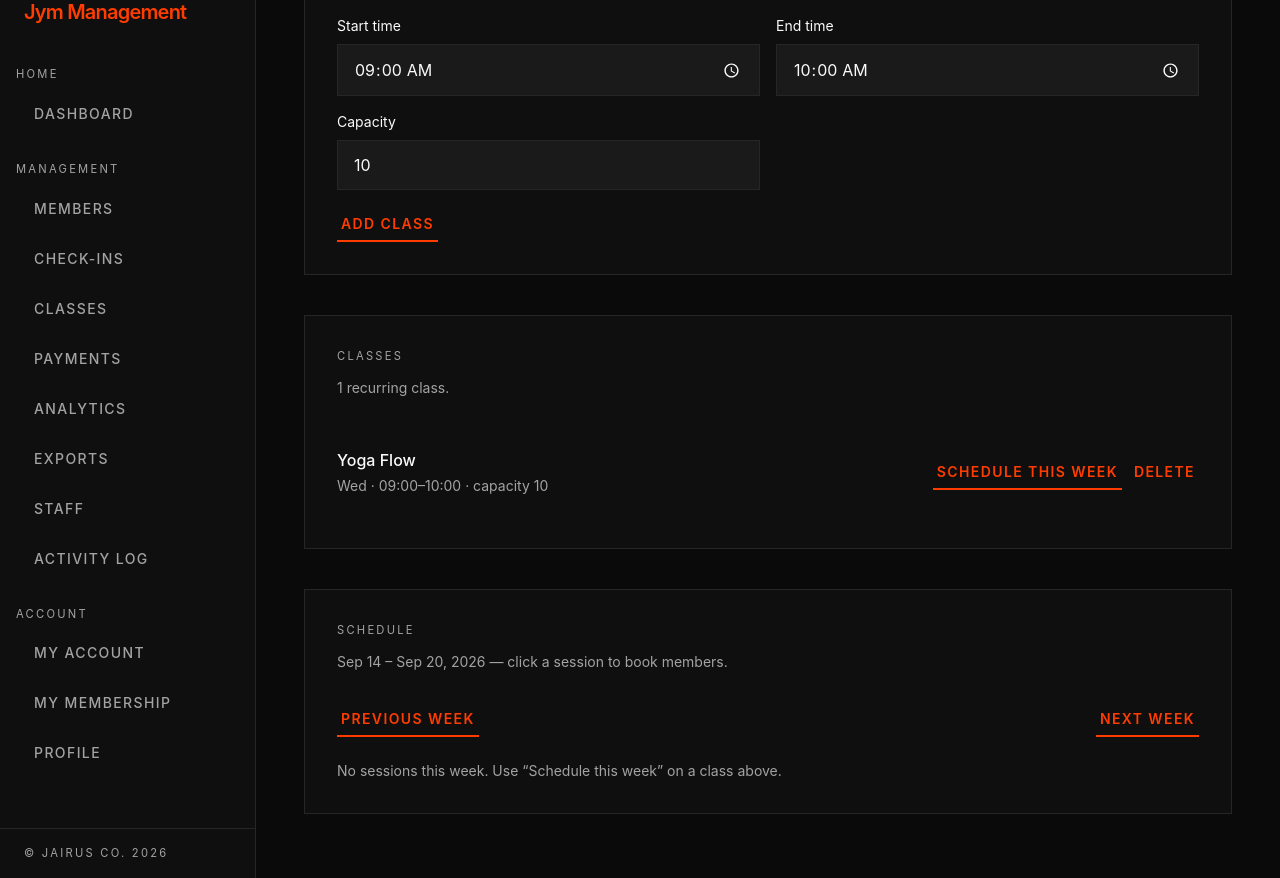
Test: ClassSchedulePage › schedules a class for the current week
(page scrolled)
Click the button "Schedule this week": {"x": 1027, "y": 472} [933,454,1122,490]
(page scrolled)
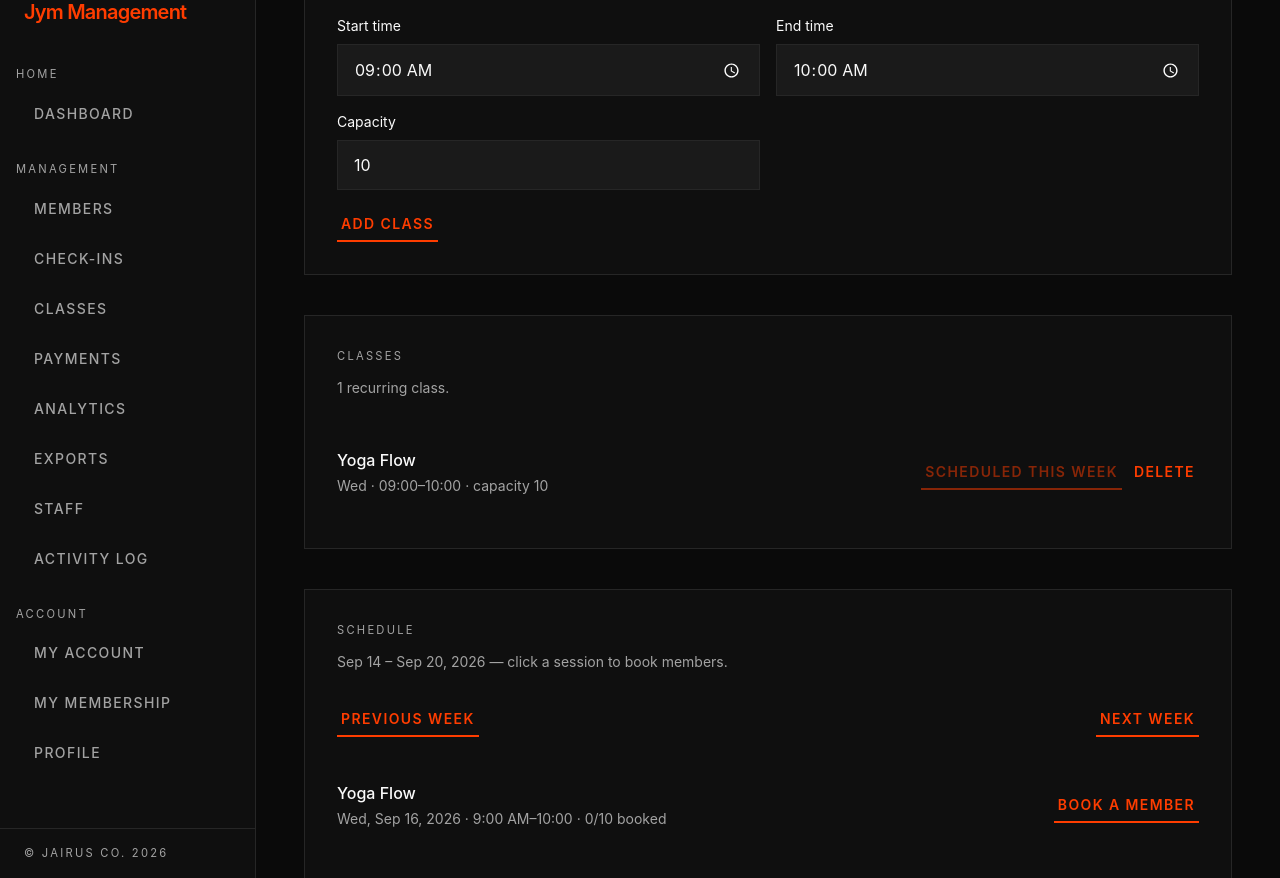
Result: the button "Scheduled this week" is shown at [921,454,1122,490]
Result: the text "Yoga Flow" is shown 2 times at [337,450,416,470]; [337,783,416,803]
